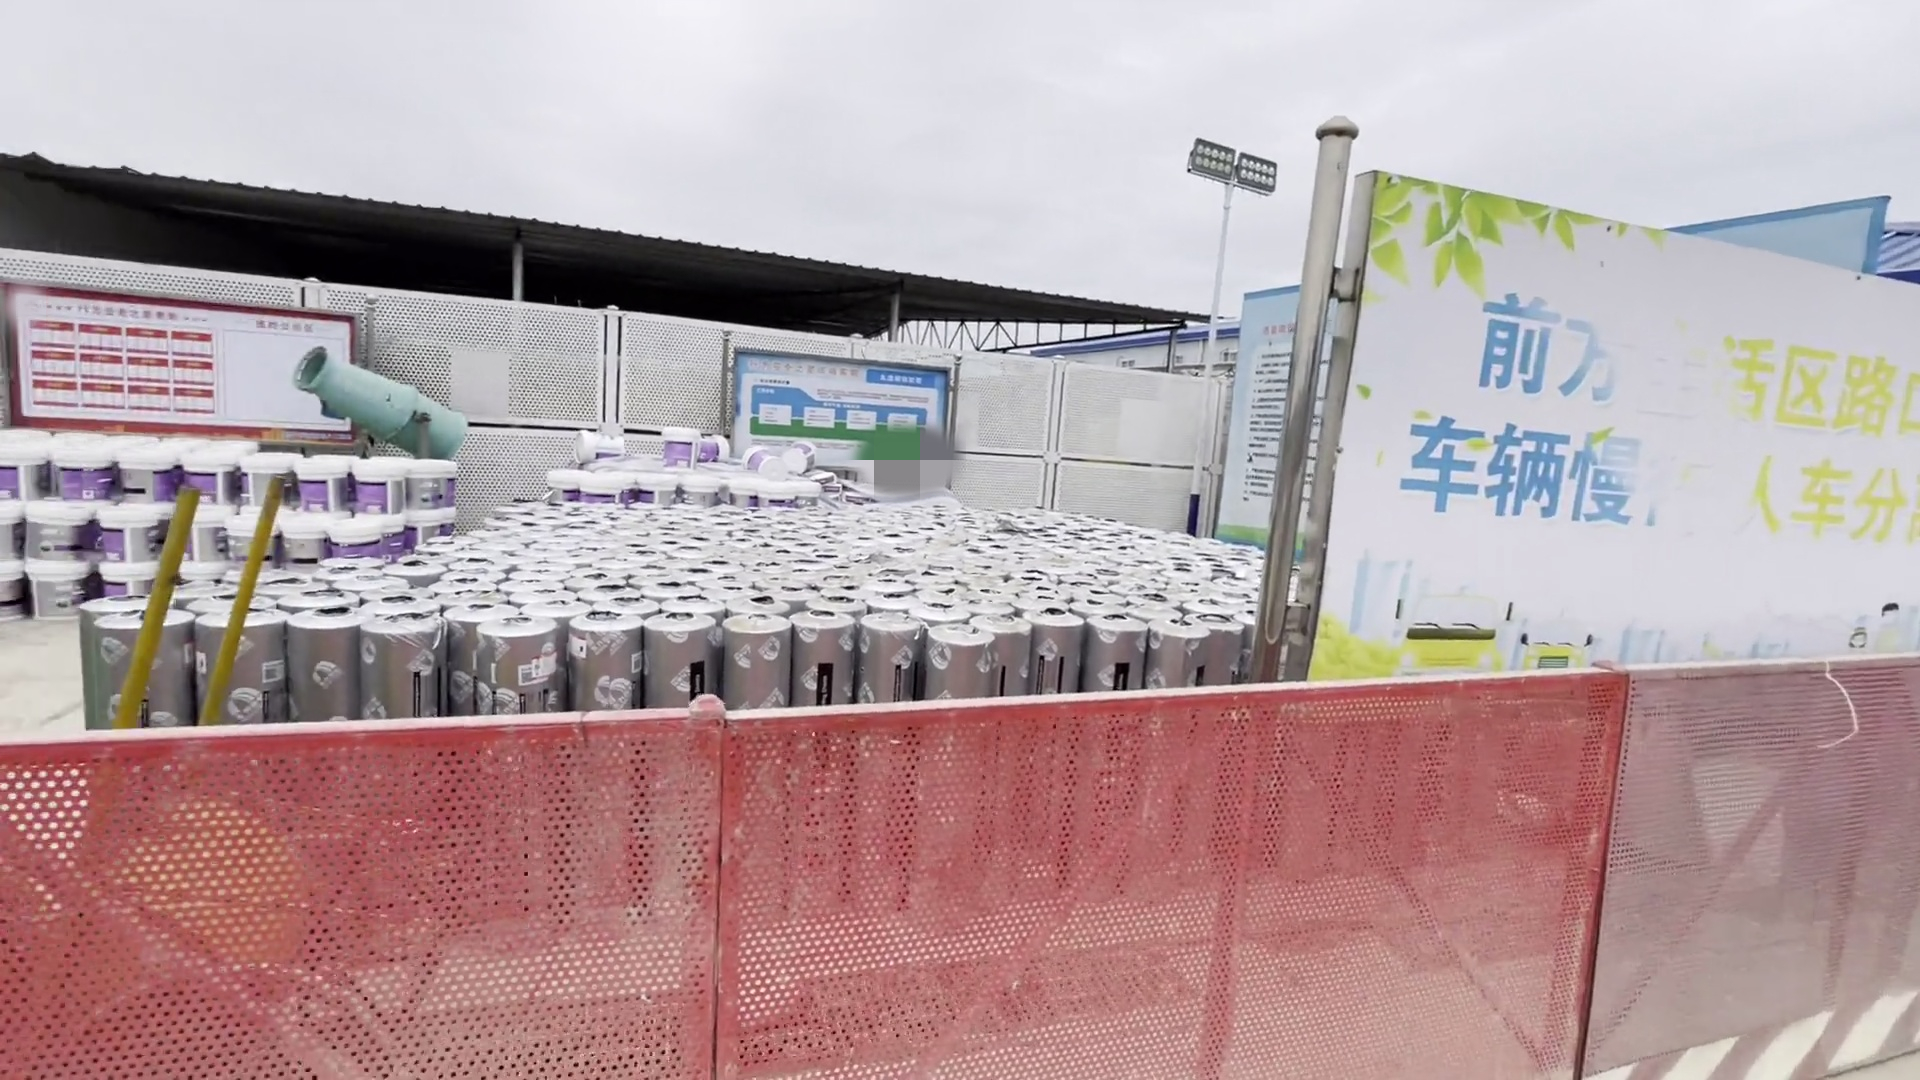fence: (18, 638, 1920, 1073)
